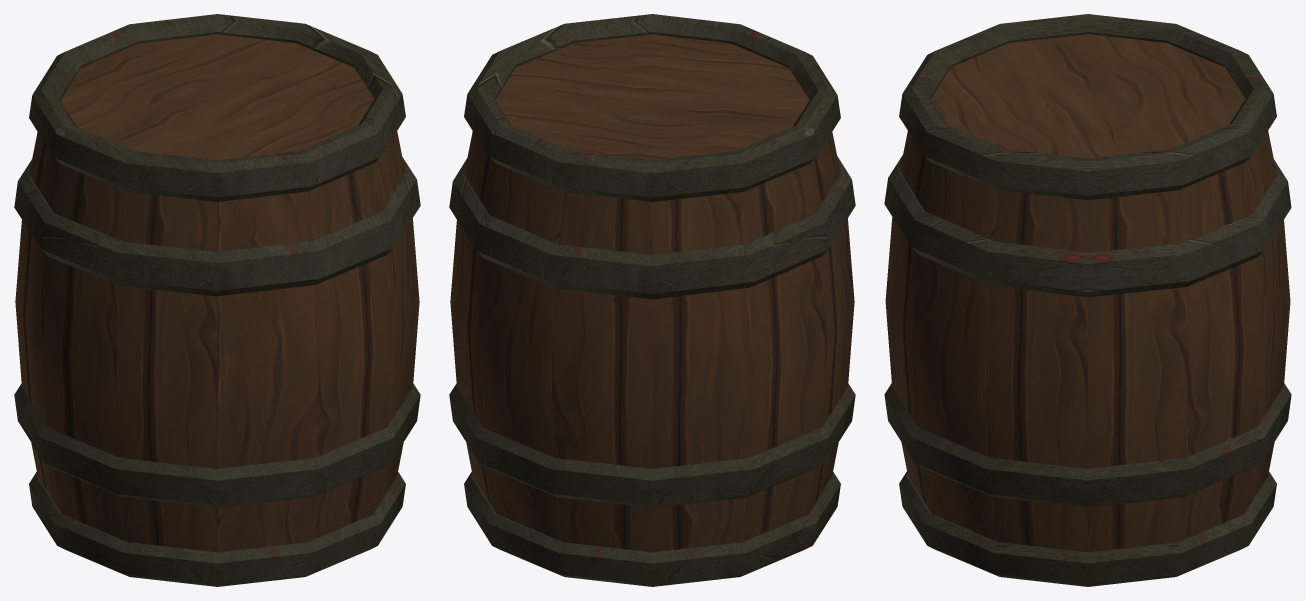
The model's file is Barrel_02.glb.
The picture shows the model from 3 angles, left to right: view 1: azimuth 30°, elevation 25°; view 2: azimuth 150°, elevation 25°; view 3: azimuth 270°, elevation 25°; orthographic projection.
Visible parts, largest first — view 1: Barrel_02; view 2: Barrel_02; view 3: Barrel_02.
Part boxes in pixels (x1,y1,x2,y2): Barrel_02: [14, 14, 420, 586]; Barrel_02: [449, 14, 855, 586]; Barrel_02: [884, 14, 1291, 586].
Bounding box in the file's own units: 0.8677 × 1 × 0.8679.
Materials: 2 (2 with a texture image).
